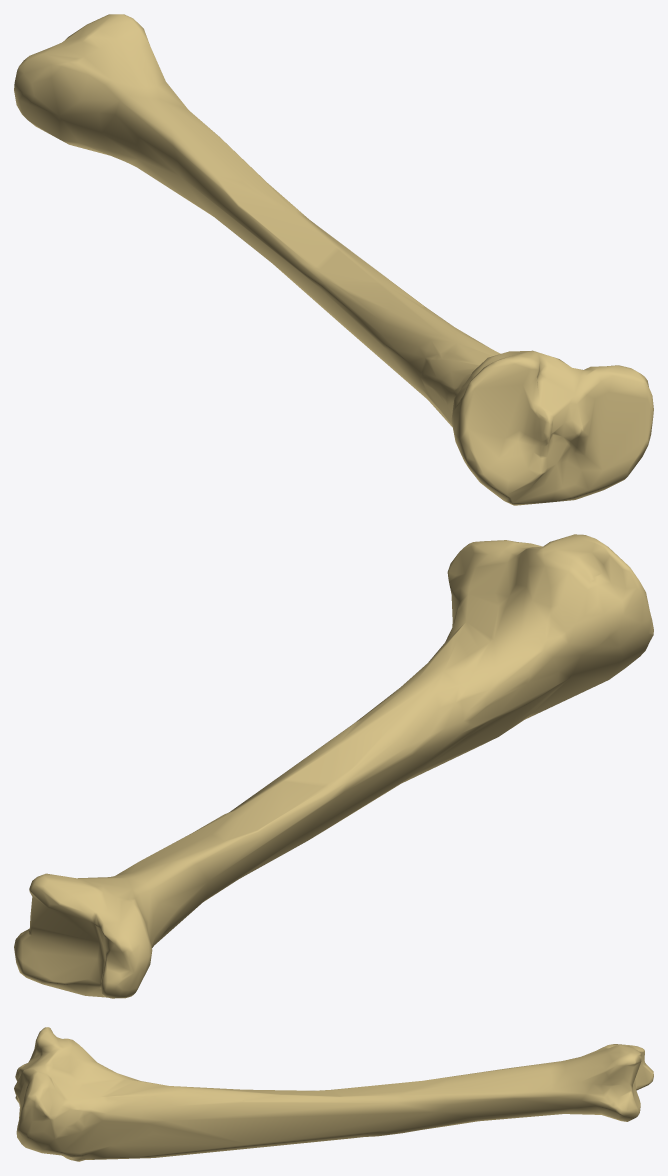
3 renders of one model, top to bottom at view 1: azimuth 30°, elevation 25°; view 2: azimuth 150°, elevation 25°; view 3: azimuth 270°, elevation 25°, orthographic. The views are drawn at different scales.
Visible parts, largest first — view 1: 左侧胫骨; view 2: 左侧胫骨; view 3: 左侧胫骨.
Part boxes in pixels (x1,y1,x2,y2): 左侧胫骨: [14, 14, 653, 505]; 左侧胫骨: [14, 534, 653, 998]; 左侧胫骨: [14, 1027, 653, 1161].
Bounding box in the file's own units: 0.1156 × 0.1002 × 0.5274.
